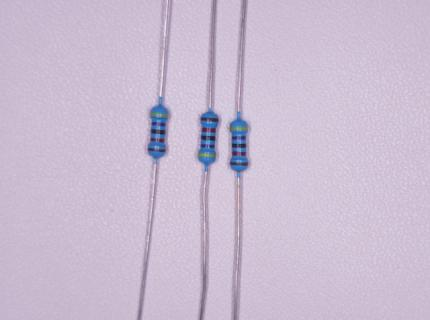Black band: (232, 144, 246, 148), (152, 130, 165, 134), (202, 136, 215, 140)
Brown band: (149, 148, 166, 152), (201, 118, 218, 121), (231, 162, 247, 165)
Red band: (151, 138, 165, 143), (203, 128, 216, 132), (233, 152, 246, 155)
Violet band: (201, 144, 215, 148), (232, 136, 246, 140), (151, 122, 165, 126)
Yellow band: (152, 113, 168, 117), (230, 127, 248, 130), (199, 154, 216, 157)
